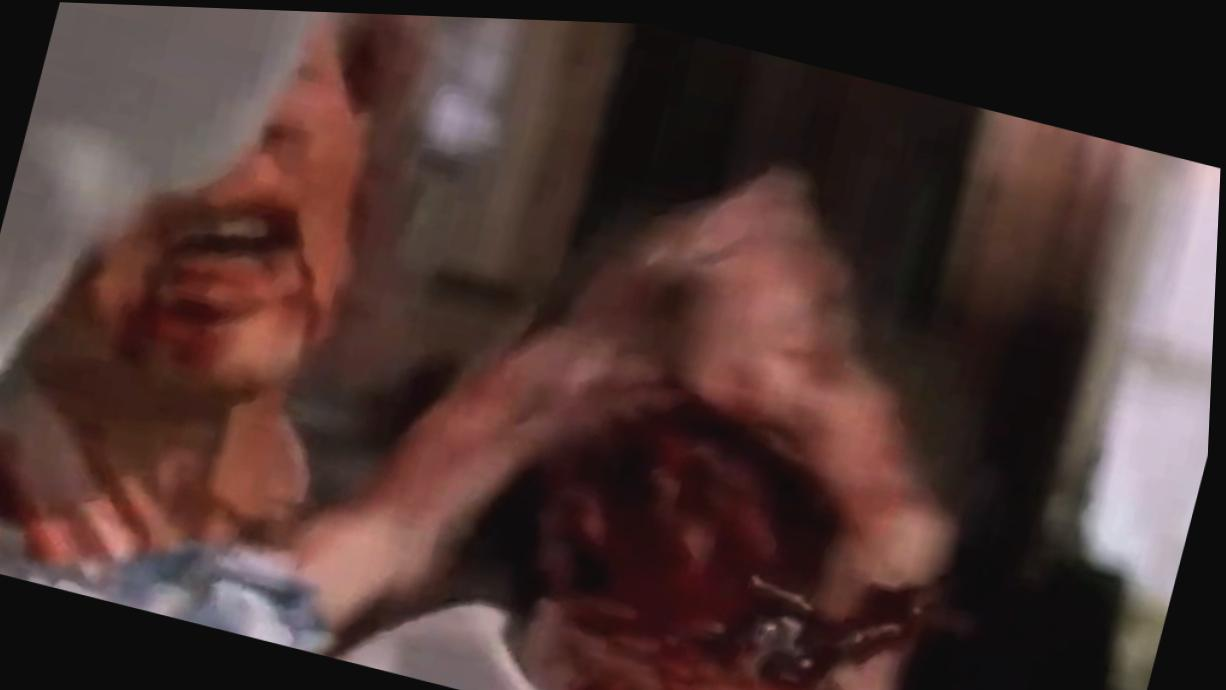Fire: (0, 182, 933, 690)
